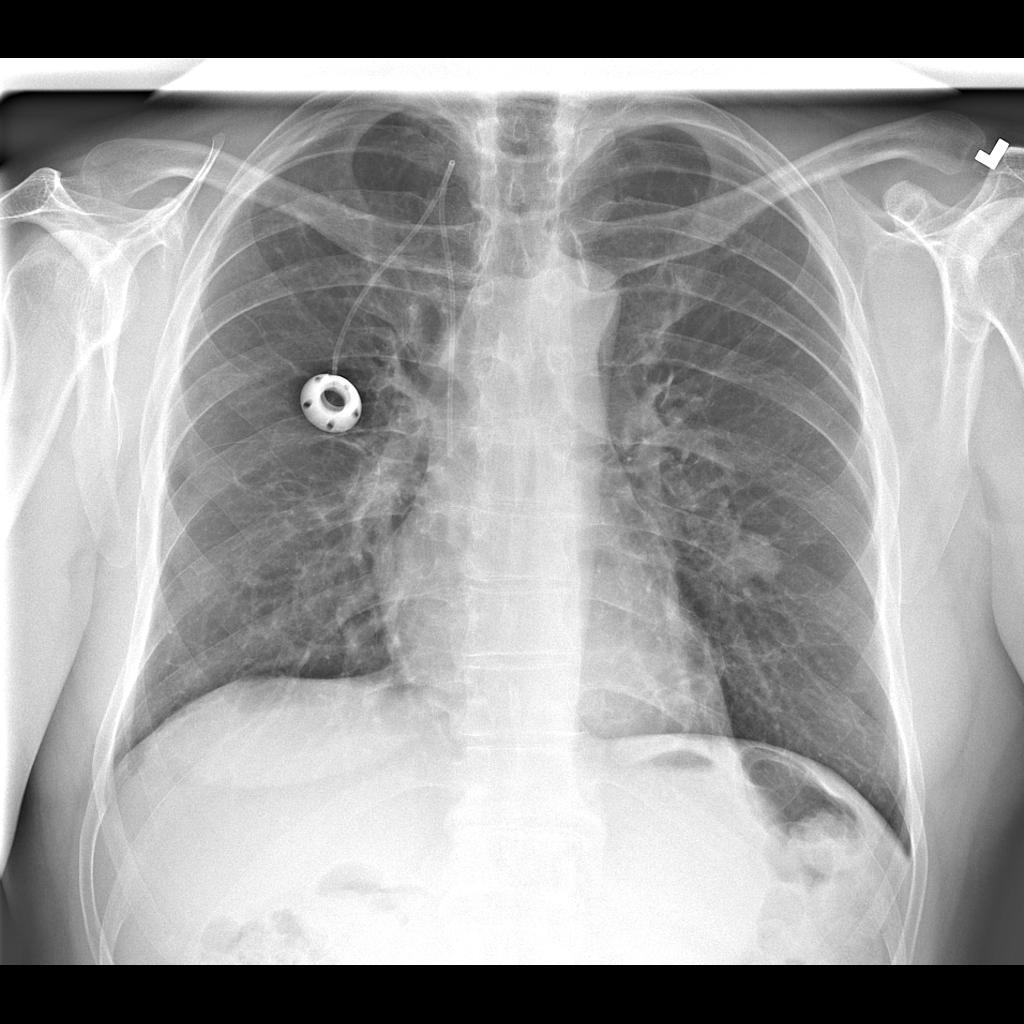Nodule: (725, 529, 784, 585)
